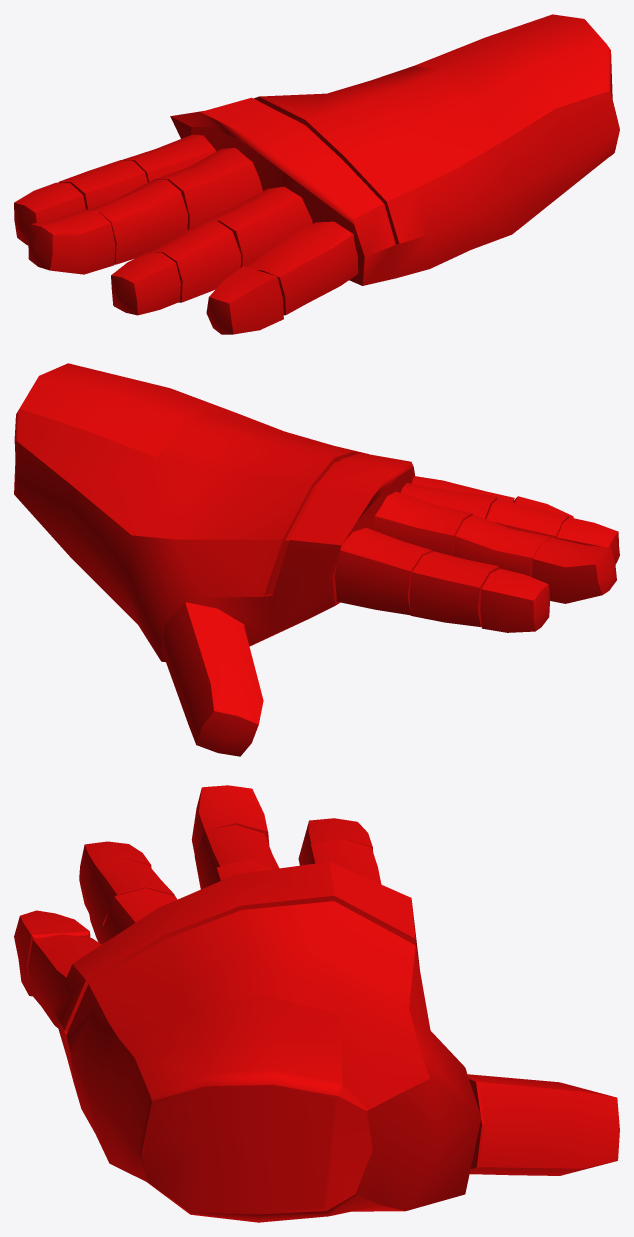
The model's file is mano_armadura_righ.fbx.
The picture shows the model from 3 angles, top to bottom: view 1: azimuth 30°, elevation 25°; view 2: azimuth 150°, elevation 25°; view 3: azimuth 270°, elevation 25°; orthographic projection. The views are drawn at different scales.
Visible parts, largest first — view 1: pCube4, pCube12, pCube19, pCube20, pCube18, pCube21, pCube22, pCube13, pCube23, pCube1, pCube2, pCube17; view 2: pCube4, pCube25, pCube17, pCube2, pCube20, pCube1, pCube18, pCube19, pCube22, pCube21, pCube23, pCube12; view 3: pCube4, pCube25, pCube12, pCube22, pCube19, pCube20, pCube13, pCube2, pCube21, pCube1, pCube23, pCube18.
Boxes of the visible parts, x1,y1,x2,y2 form: pCube4: (170, 14, 619, 285); pCube12: (247, 221, 358, 315); pCube19: (88, 179, 187, 264); pCube20: (28, 209, 115, 274); pCube18: (155, 148, 262, 229); pCube21: (204, 186, 312, 267); pCube22: (150, 221, 240, 302); pCube13: (206, 266, 283, 334); pCube23: (111, 252, 180, 315); pCube1: (14, 182, 85, 245); pCube2: (58, 160, 147, 209); pCube17: (122, 134, 216, 182); pCube4: (14, 363, 414, 662); pCube25: (161, 602, 263, 756); pCube17: (335, 527, 432, 615); pCube2: (409, 551, 499, 626); pCube20: (531, 537, 616, 603); pCube1: (480, 568, 549, 632); pCube18: (371, 491, 472, 555); pCube19: (452, 515, 551, 576); pCube22: (486, 498, 568, 538); pCube21: (400, 483, 496, 519); pCube23: (556, 517, 619, 564); pCube12: (411, 476, 514, 502); pCube4: (52, 861, 481, 1222); pCube25: (467, 1074, 619, 1175); pCube12: (28, 934, 101, 1027); pCube22: (85, 858, 174, 944); pCube19: (194, 825, 279, 889); pCube20: (191, 785, 269, 854); pCube13: (14, 910, 90, 996); pCube2: (305, 838, 381, 884); pCube21: (103, 888, 177, 942); pCube1: (298, 818, 372, 865); pCube23: (79, 841, 151, 913); pCube18: (210, 860, 274, 885).
Bounding box in the file's own units: 21.79 × 8.24 × 15.1.
